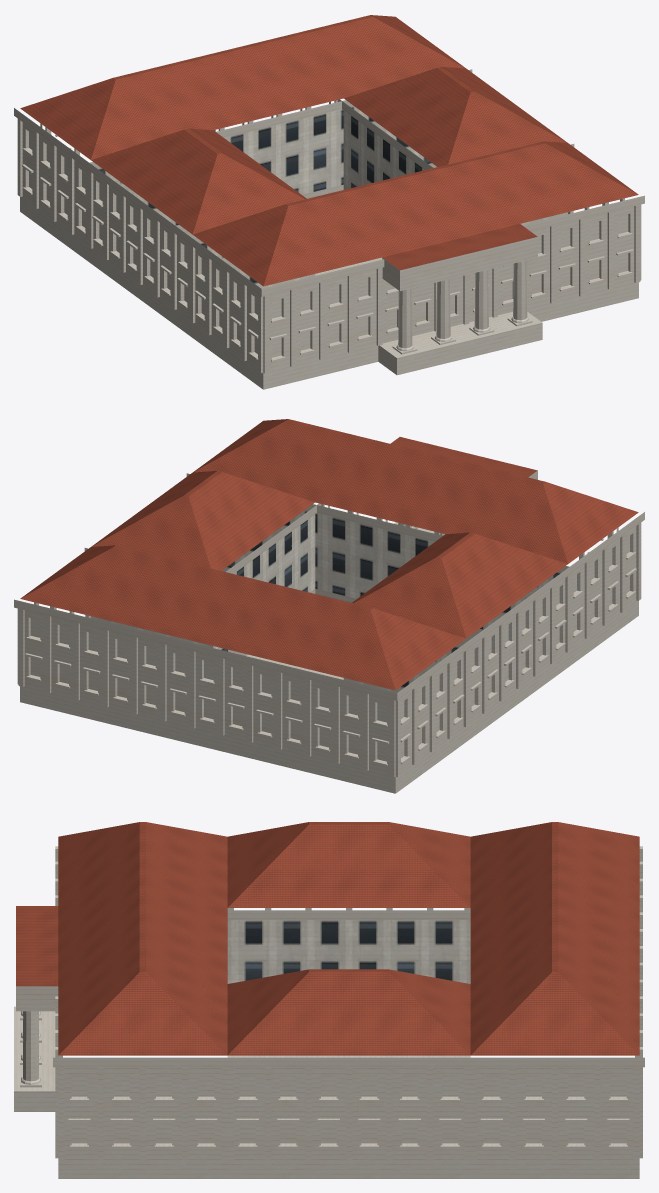
File: oas_building.glb
3 views of the same model, one above another, from view 1: azimuth 30°, elevation 25°; view 2: azimuth 150°, elevation 25°; view 3: azimuth 270°, elevation 25° (orthographic). The views are drawn at different scales.
Parts seen in each view (by area): view 1: oas_building; view 2: oas_building; view 3: oas_building.
Part boxes in pixels (x1,y1,x2,y2): oas_building: (14,15,644,389); oas_building: (14,419,644,793); oas_building: (14,822,644,1178).
Size of the model in its own units: 50 by 18 by 59.7.
Materials: 4 (4 with a texture image).
